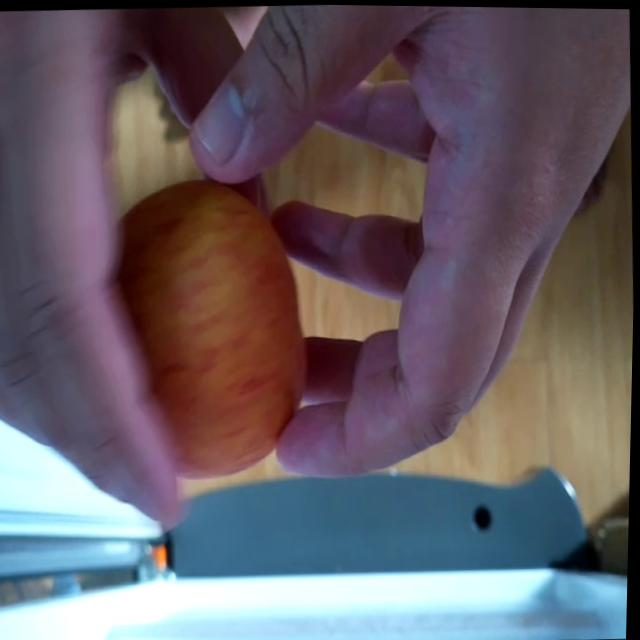apple: (104, 168, 320, 488)
